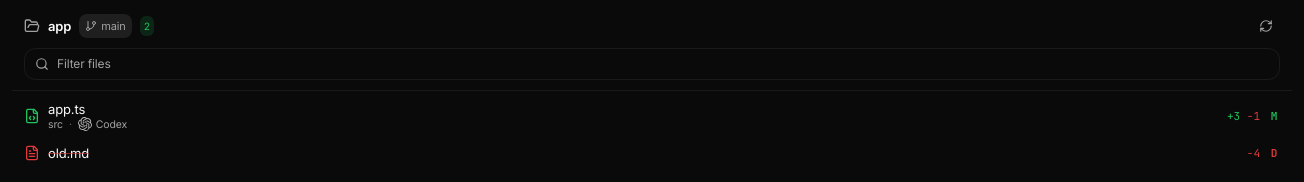
Test case: ExplorerPanel › opens a changed file as a diff with removed and added lines
Click the button with test id "explorer-change-row": (67, 109) [12, 97, 1292, 135]
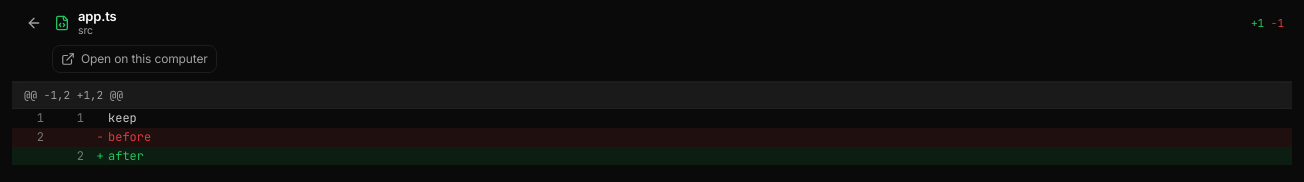
Expected: the element showing "2 − before" is shown, [12, 128, 1292, 147]
Expected: the element showing "2 + after" is shown, [12, 147, 1292, 165]
